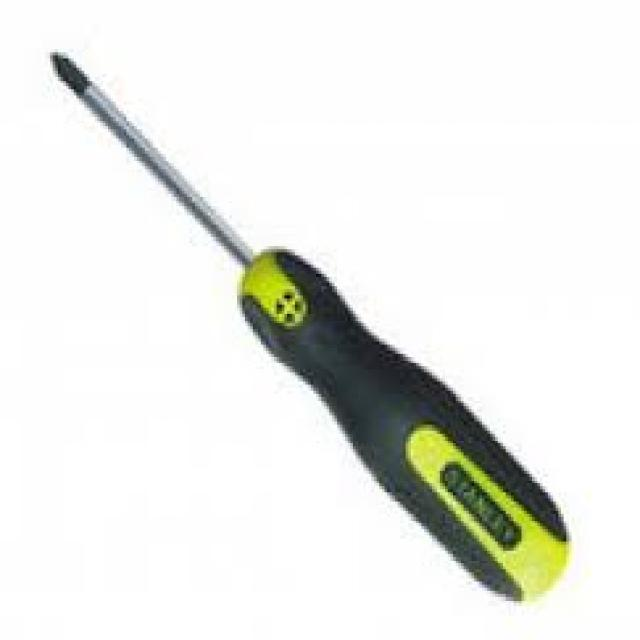screwdriver: (41, 35, 576, 611)
